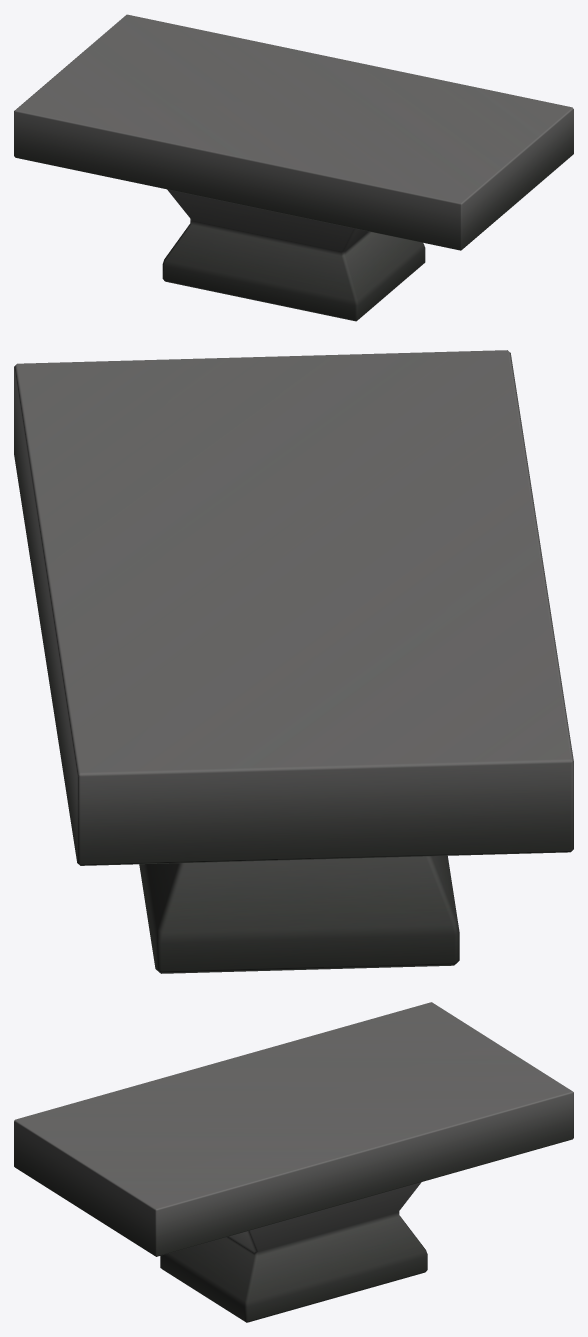
Rendered from mesa prefab.fbx.
3 views of the same model, one above another, from view 1: azimuth 30°, elevation 25°; view 2: azimuth 150°, elevation 25°; view 3: azimuth 270°, elevation 25° (orthographic). The views are drawn at different scales.
Parts seen in each view (by area): view 1: Mesa pra export; view 2: Mesa pra export; view 3: Mesa pra export.
Boxes of the visible parts, left/top/right/bottom form: Mesa pra export: left=14, top=14, right=573, bottom=321; Mesa pra export: left=14, top=350, right=573, bottom=973; Mesa pra export: left=14, top=1002, right=573, bottom=1322.
Bounding box in the file's own units: 287 × 107 × 327.
